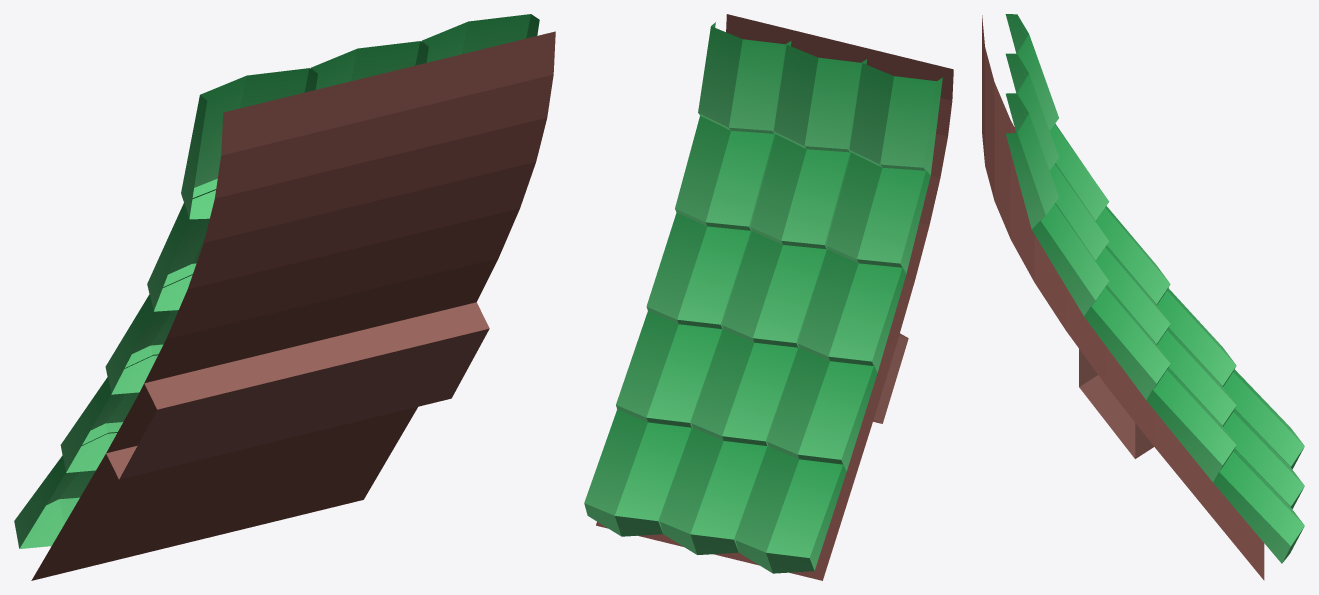
Rendered from RoofPlane_6.fbx.
The picture shows the model from 3 angles, left to right: view 1: azimuth 30°, elevation 25°; view 2: azimuth 150°, elevation 25°; view 3: azimuth 270°, elevation 25°; orthographic projection. The views are drawn at different scales.
Parts seen in each view (by area): view 1: RoofPlane_6; view 2: RoofPlane_6; view 3: RoofPlane_6.
Boxes of the visible parts, bbox=[...] form: RoofPlane_6: bbox=[14, 14, 555, 580]; RoofPlane_6: bbox=[584, 14, 953, 580]; RoofPlane_6: bbox=[982, 14, 1304, 580].
Bounding box in the file's own units: 1.2 × 1.37 × 2.1.
